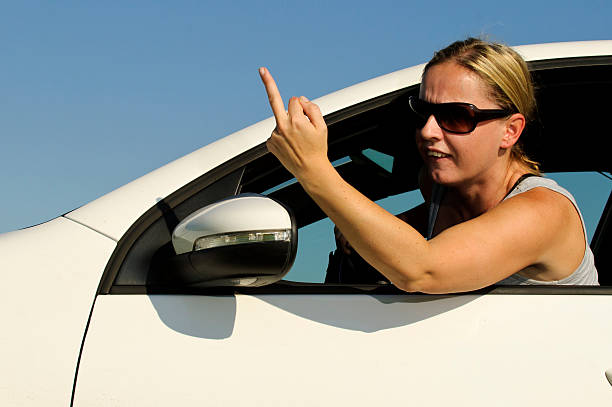insulting_gesture: (255, 63, 329, 173)
